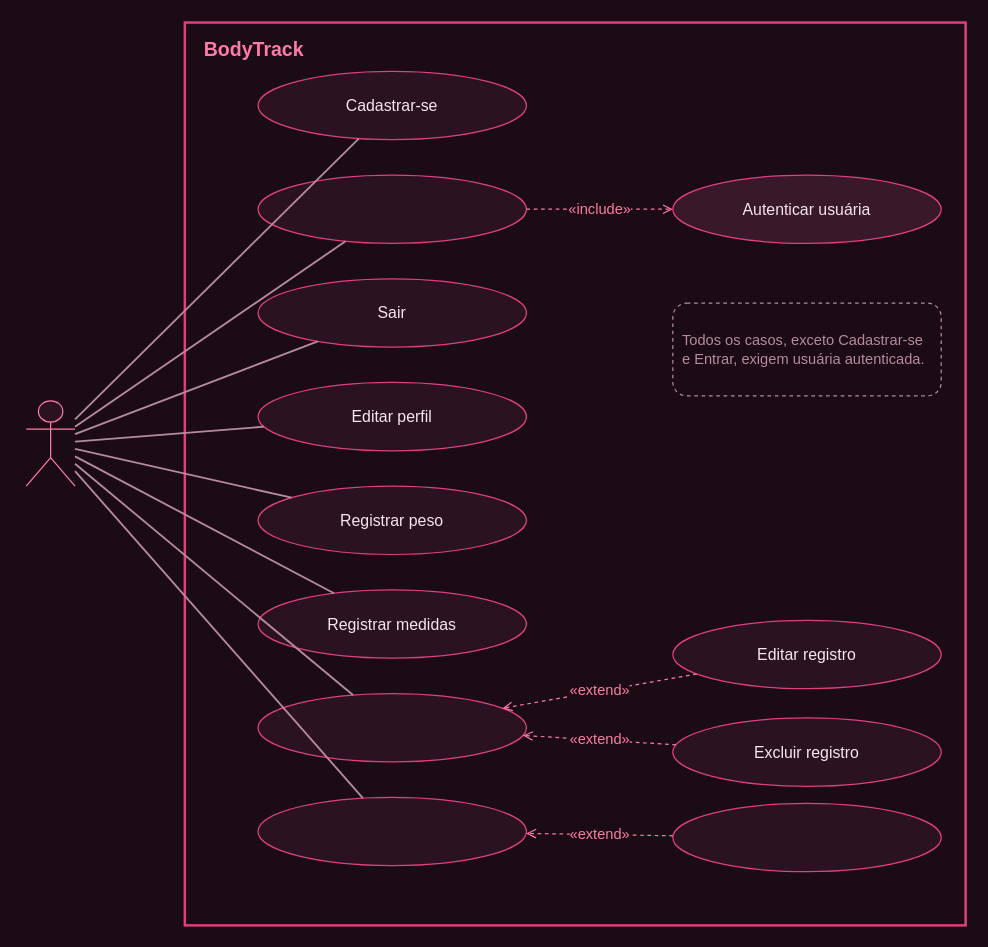
This 988x947 diagram has some shape labels left out. Each missing label, with the centre of its shape:
"Comparar datas" belongs at [806,837].
"Consultar histórico" belongs at [391,727].
"Entrar" belongs at [391,208].
"Usuária" belongs at [50,443].
"Ver gráficos de evolução" belongs at [391,831].
